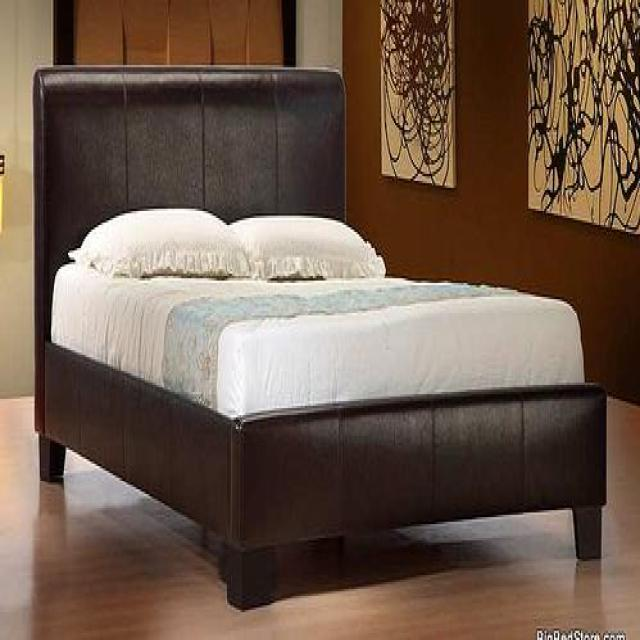bed: (32, 62, 607, 610)
